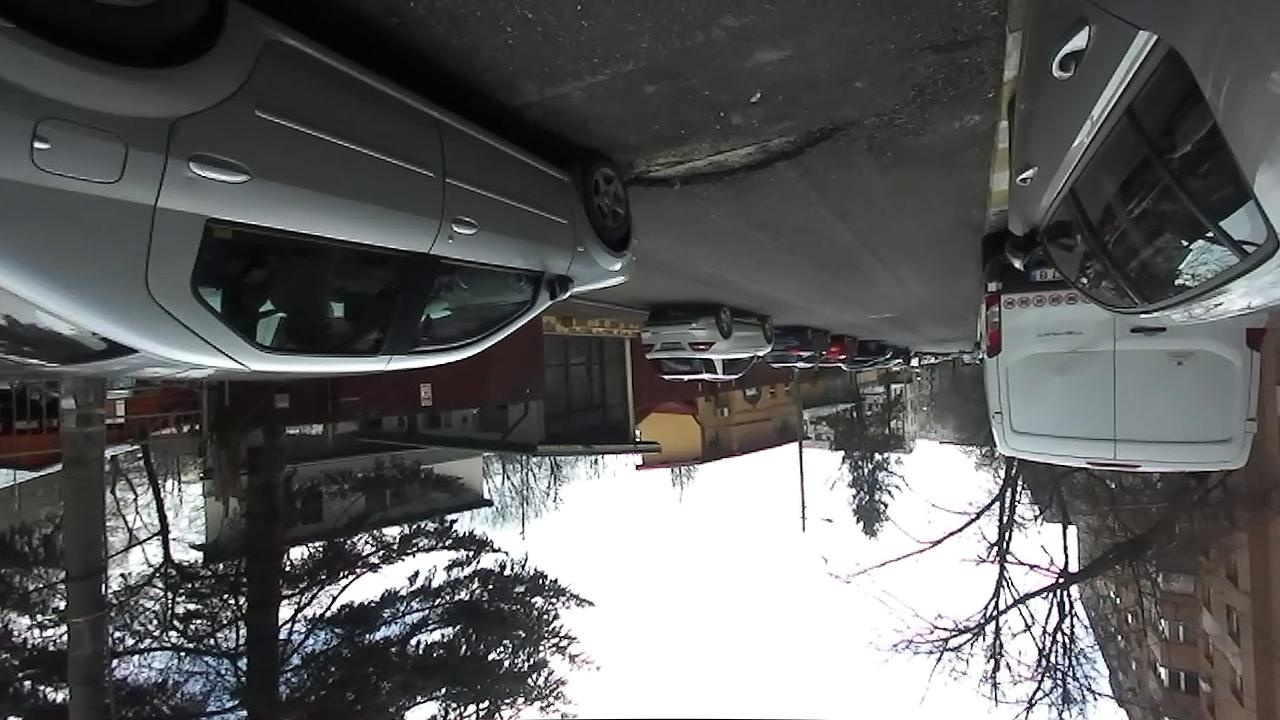pothole: (628, 119, 856, 192)
